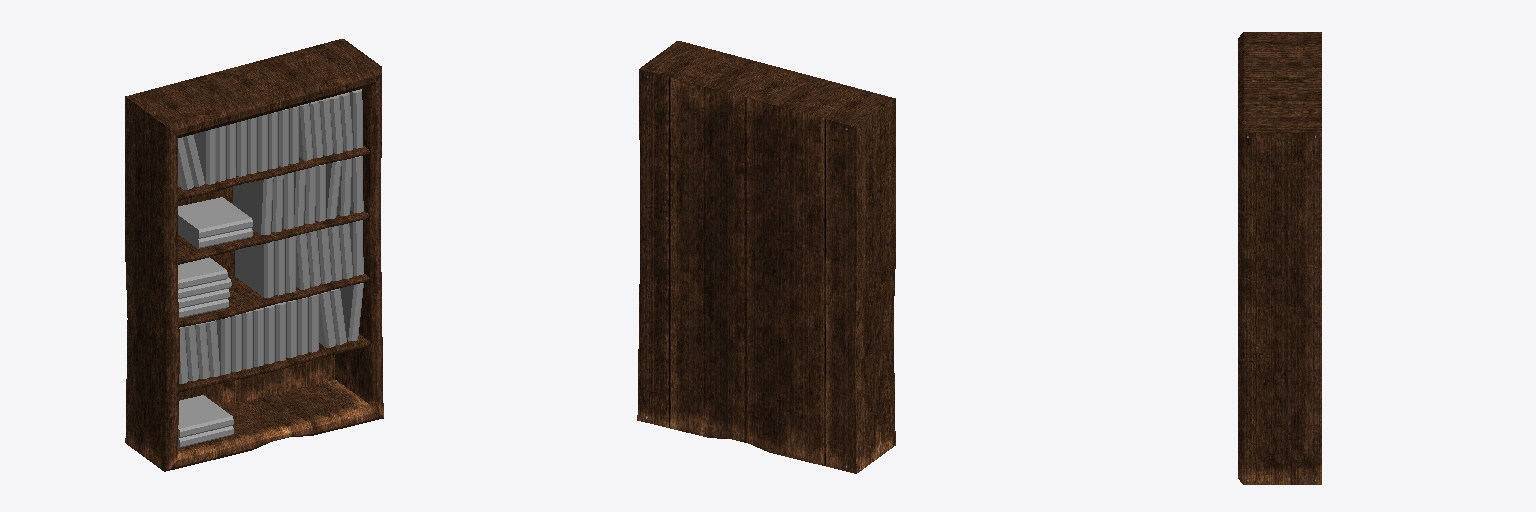
3 views of the same model, side by side, from view 1: azimuth 30°, elevation 25°; view 2: azimuth 150°, elevation 25°; view 3: azimuth 270°, elevation 25° (orthographic).
Parts seen in each view (by area): view 1: SHELF, Object007; view 2: SHELF; view 3: SHELF.
Boxes of the visible parts, x1,y1,x2,y2 form: SHELF: [125, 39, 383, 471]; Object007: [178, 89, 363, 447]; SHELF: [637, 41, 895, 473]; SHELF: [1238, 32, 1321, 484].
Size of the model in its own units: 72.59 by 111 by 24.04.
Materials: 2 (1 with a texture image).